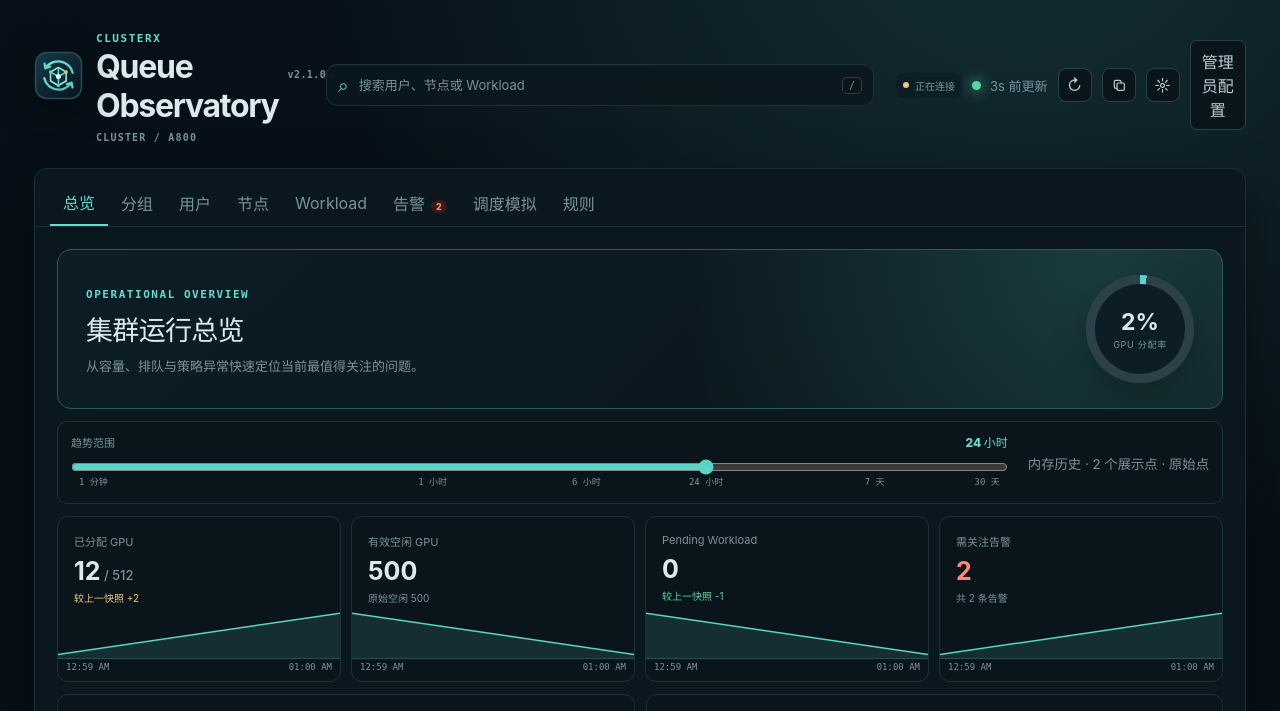
Test: Clusterx monitor dashboard › shows the active development instance count in the user table
Expected: the heading "Queue Observatory" is shown, [96,47,278,125]
Click the button with aria-label "users".
click(195, 203)  # box [166,180,224,226]
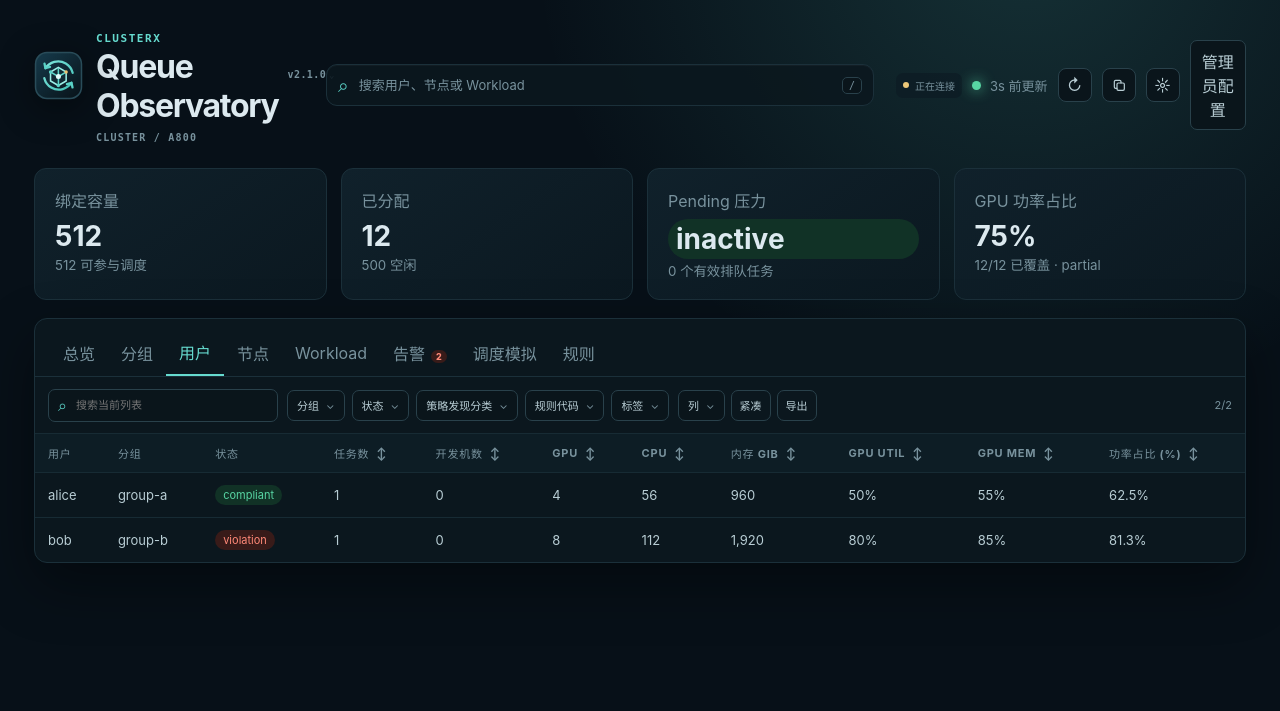
Result: the button with aria-label "排序 开发机数" is shown at [436,445,526,461]
